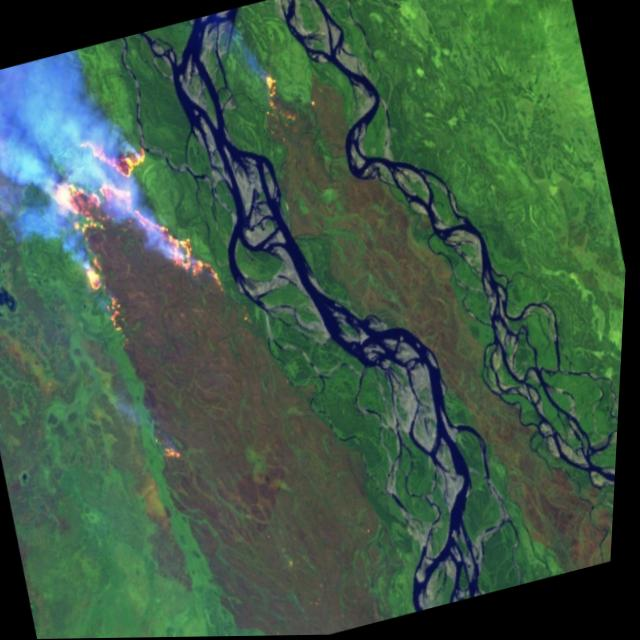fire: (27, 101, 250, 344), (247, 55, 322, 147), (158, 430, 197, 476)
